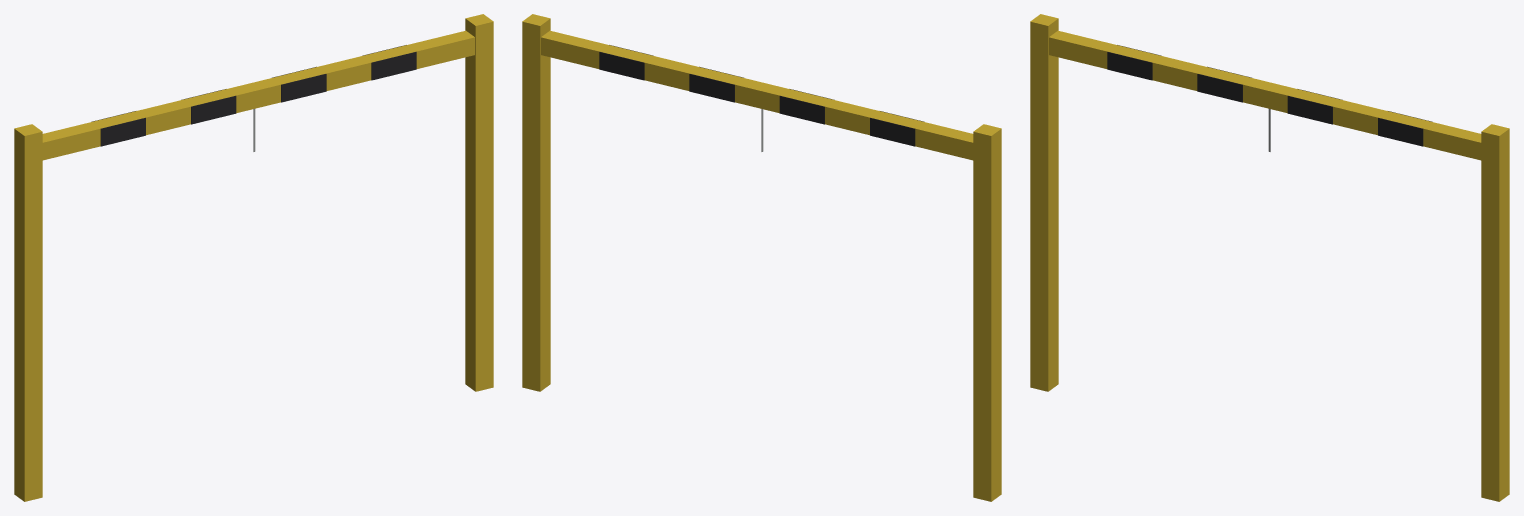
File: town_clearance_bar.gltf
3 views of the same model, side by side, from view 1: azimuth 30°, elevation 25°; view 2: azimuth 150°, elevation 25°; view 3: azimuth 330°, elevation 25° (orthographic).
Visible parts, largest first — view 1: TownClearanceBar_Gantry, TownClearanceBar_Bands; view 2: TownClearanceBar_Gantry, TownClearanceBar_Bands; view 3: TownClearanceBar_Gantry, TownClearanceBar_Bands.
Part boxes in pixels (left/top/right/bottom): TownClearanceBar_Gantry: left=14, top=14, right=493, bottom=501; TownClearanceBar_Bands: left=91, top=45, right=416, bottom=146; TownClearanceBar_Gantry: left=522, top=14, right=1001, bottom=501; TownClearanceBar_Bands: left=599, top=45, right=924, bottom=146; TownClearanceBar_Gantry: left=1030, top=14, right=1509, bottom=501; TownClearanceBar_Bands: left=1107, top=45, right=1432, bottom=146.
Size of what is drawn, in the model's own units: 4.16 by 3.1 by 0.16.
1 material, 1 textured.
